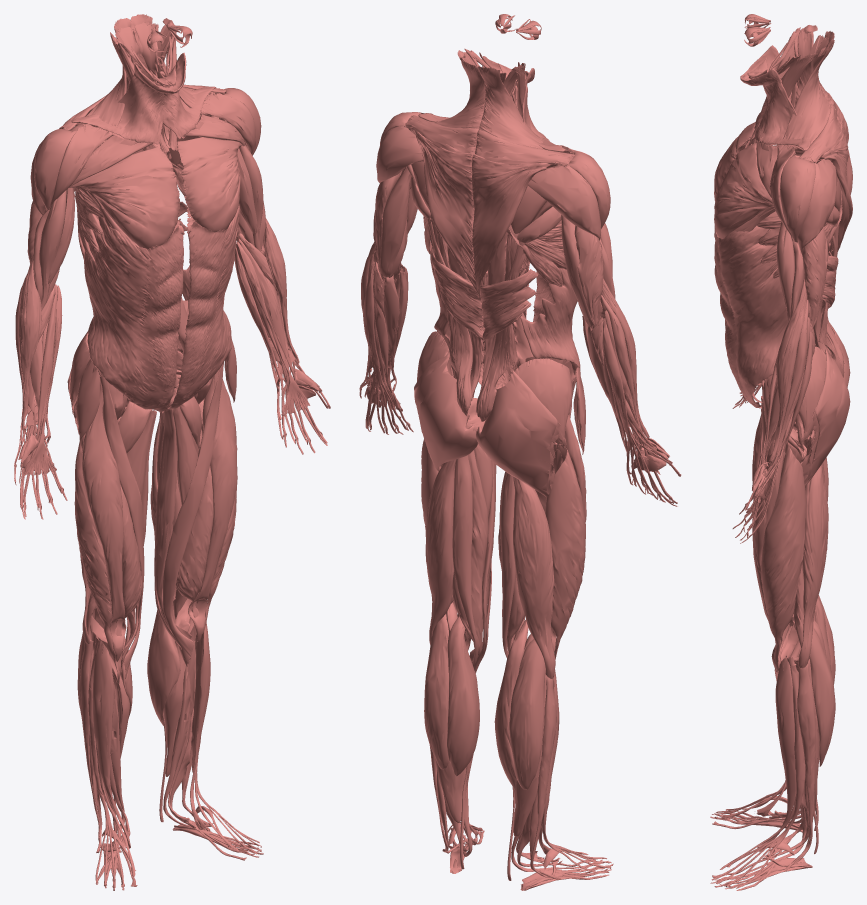
Rendered from muscular.glb.
The picture shows the model from 3 angles, left to right: view 1: azimuth 30°, elevation 25°; view 2: azimuth 150°, elevation 25°; view 3: azimuth 270°, elevation 25°; orthographic projection.
Parts seen in each view (by area): view 1: oblicuo-externo-d, oblicuo-externo-i, pectoral-mayor-d__FJ1464, recto-femoral-d, pectoral-mayor-i__FJ1464M, recto-femoral-i, sartorio-i, vasto-lateral-d, platisma-d, gracil-i, sartorio-d, tibial-anterior-d (+44 smaller); view 2: gluteo-mayor-d, biceps-femoral-d__FJ1395, vasto-lateral-d, musculo-trapecio-i__FJ1520M, musculo-trapecio-d__FJ1520, gluteo-mayor-i, gastrocnemio-d__FJ1394, gastrocnemio-i__FJ1397M, biceps-femoral-i__FJ1395M, oblicuo-externo-d, semitendinoso-i, gastrocnemio-i__FJ1394M (+44 smaller); view 3: oblicuo-externo-i, vasto-lateral-i, biceps-femoral-i__FJ1395M, pectoral-mayor-i__FJ1464M, gluteo-mayor-i, tibial-anterior-i, platisma-i, deltoides-i__FJ1467M, musculo-trapecio-i__FJ1521M, gastrocnemio-i__FJ1394M, braquiorradial-i, peroneo-largo-i (+40 smaller).
Part boxes in pixels (box(x1,y1,x2,y2)): oblicuo-externo-d: box(84, 216, 183, 412); oblicuo-externo-i: box(168, 204, 240, 409); pectoral-mayor-d__FJ1464: box(68, 146, 180, 248); recto-femoral-d: box(82, 382, 126, 661); pectoral-mayor-i__FJ1464M: box(177, 137, 242, 232); recto-femoral-i: box(188, 369, 237, 641); sartorio-i: box(162, 362, 224, 664); vasto-lateral-d: box(74, 433, 115, 660); platisma-d: box(71, 64, 175, 144); gracil-i: box(154, 407, 191, 639); sartorio-d: box(98, 372, 144, 678); tibial-anterior-d: box(92, 640, 130, 848); gluteo-mayor-d: box(476, 370, 560, 497); biceps-femoral-d__FJ1395: box(513, 476, 555, 678); vasto-lateral-d: box(545, 444, 585, 659); musculo-trapecio-i__FJ1520M: box(415, 131, 480, 298); musculo-trapecio-d__FJ1520: box(471, 154, 557, 298); gluteo-mayor-i: box(414, 355, 478, 471); gastrocnemio-d__FJ1394: box(509, 639, 545, 789); gastrocnemio-i__FJ1397M: box(447, 616, 479, 775); biceps-femoral-i__FJ1395M: box(425, 459, 456, 644); oblicuo-externo-d: box(520, 268, 580, 374); semitendinoso-i: box(452, 455, 478, 666); gastrocnemio-i__FJ1394M: box(424, 614, 448, 769); oblicuo-externo-i: box(714, 225, 788, 408); vasto-lateral-i: box(761, 441, 806, 671); biceps-femoral-i__FJ1395M: box(798, 464, 828, 668); pectoral-mayor-i__FJ1464M: box(714, 143, 773, 238); gluteo-mayor-i: box(801, 349, 850, 485); tibial-anterior-i: box(757, 657, 796, 851); platisma-i: box(740, 69, 810, 150); deltoides-i__FJ1467M: box(780, 155, 815, 242); musculo-trapecio-i__FJ1521M: box(783, 40, 834, 144); gastrocnemio-i__FJ1394M: box(793, 620, 835, 766); braquiorradial-i: box(769, 274, 806, 463); peroneo-largo-i: box(762, 662, 815, 866).
Bounding box in the file's own units: 0.6388 × 1.61 × 0.251.
